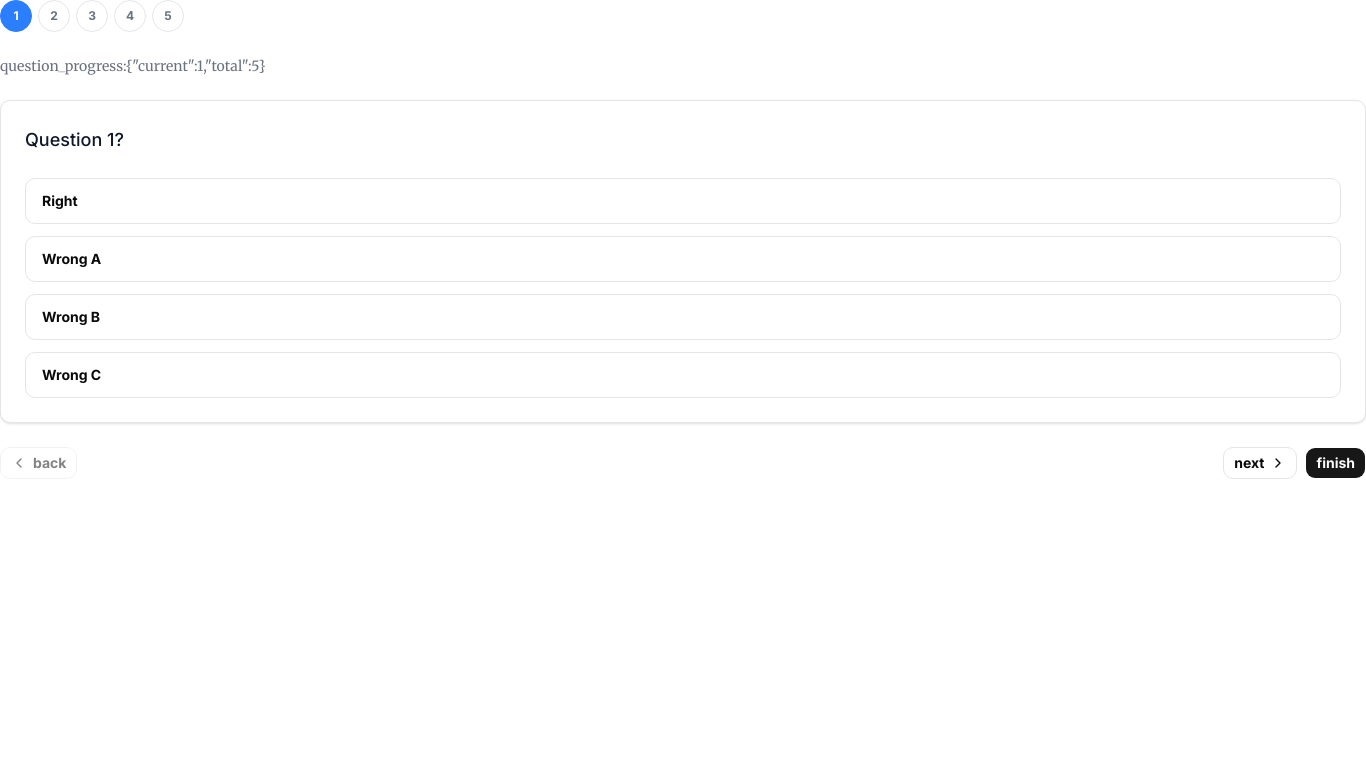
Test: QuizPlayer — finish confirmation dismissal (#666) › raises the confirmation when questions are unanswered
Click the button "next" at (1260, 463), box top-left (1223, 447), bottom-right (1297, 479)
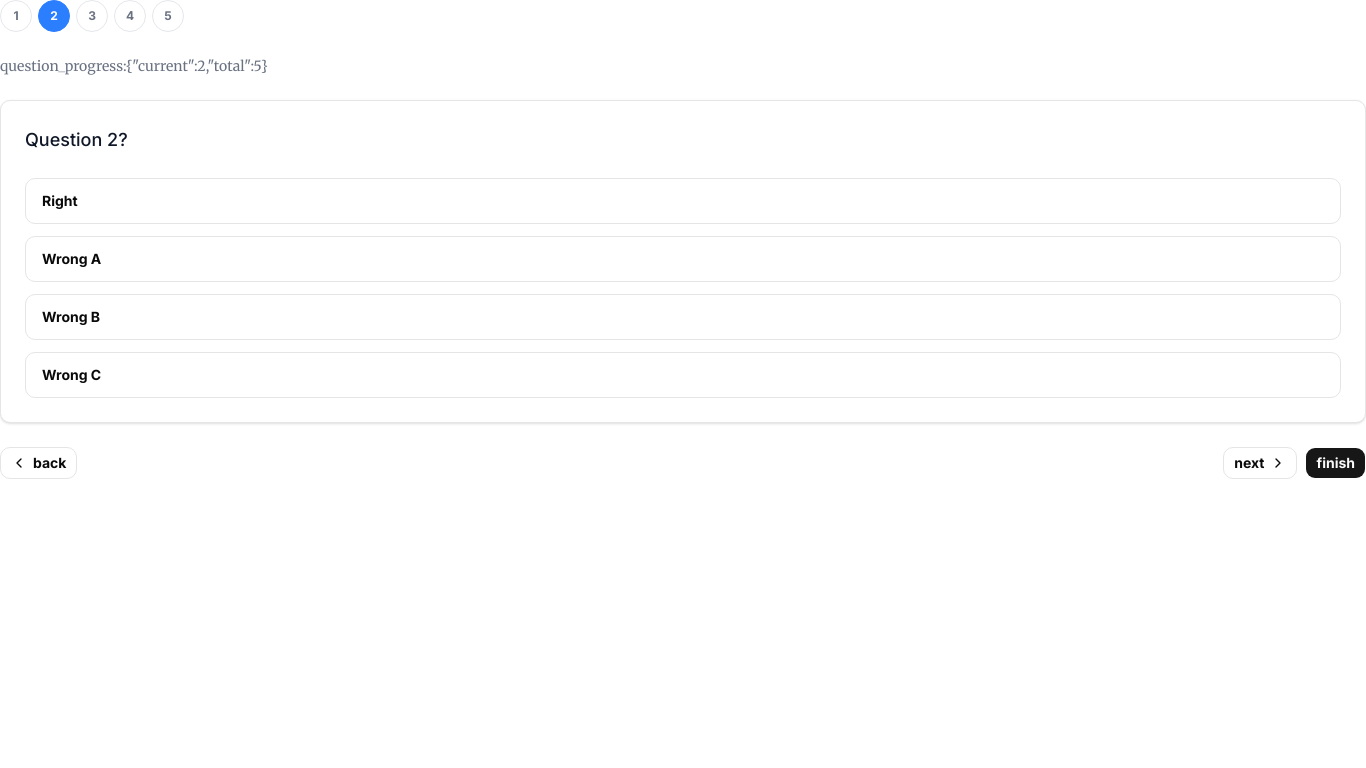
Click the button "next" at (1260, 463), box top-left (1223, 447), bottom-right (1297, 479)
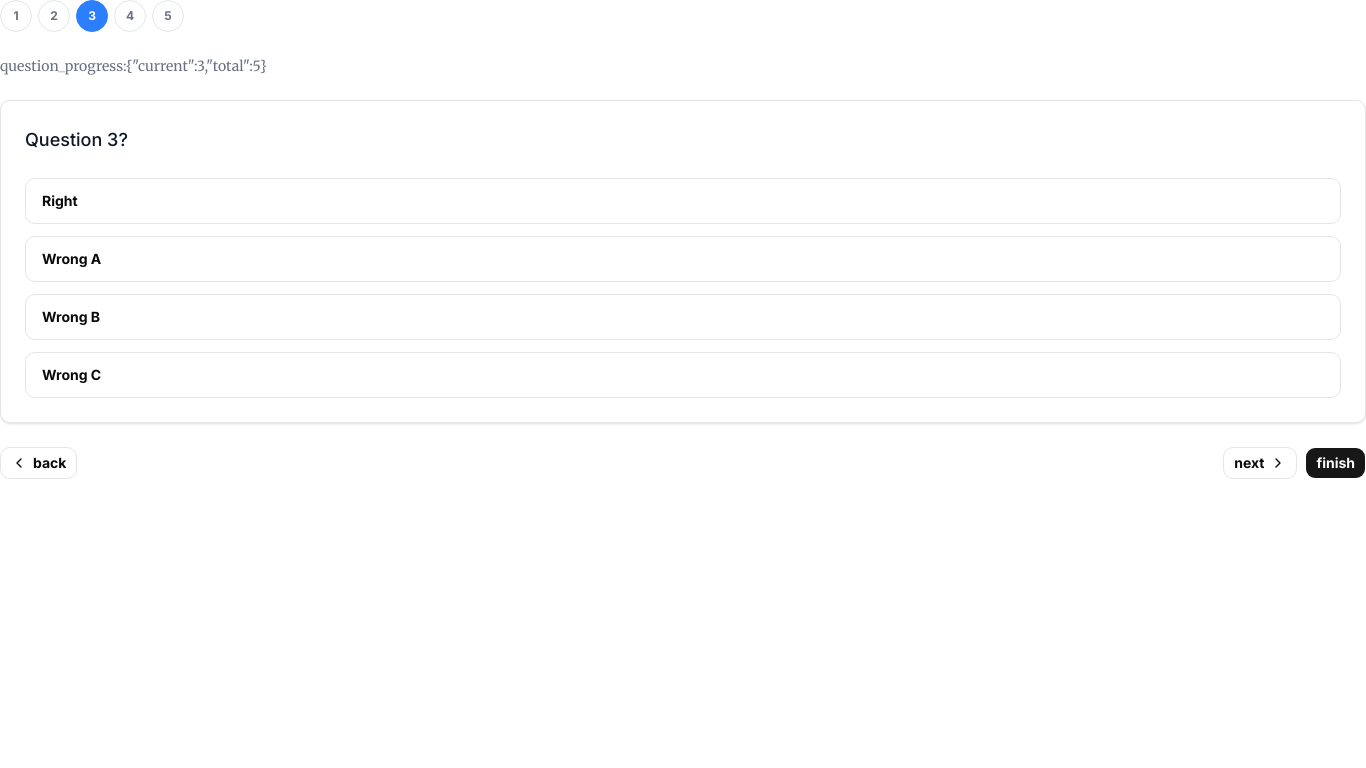
Click the button "next" at (1260, 463), box top-left (1223, 447), bottom-right (1297, 479)
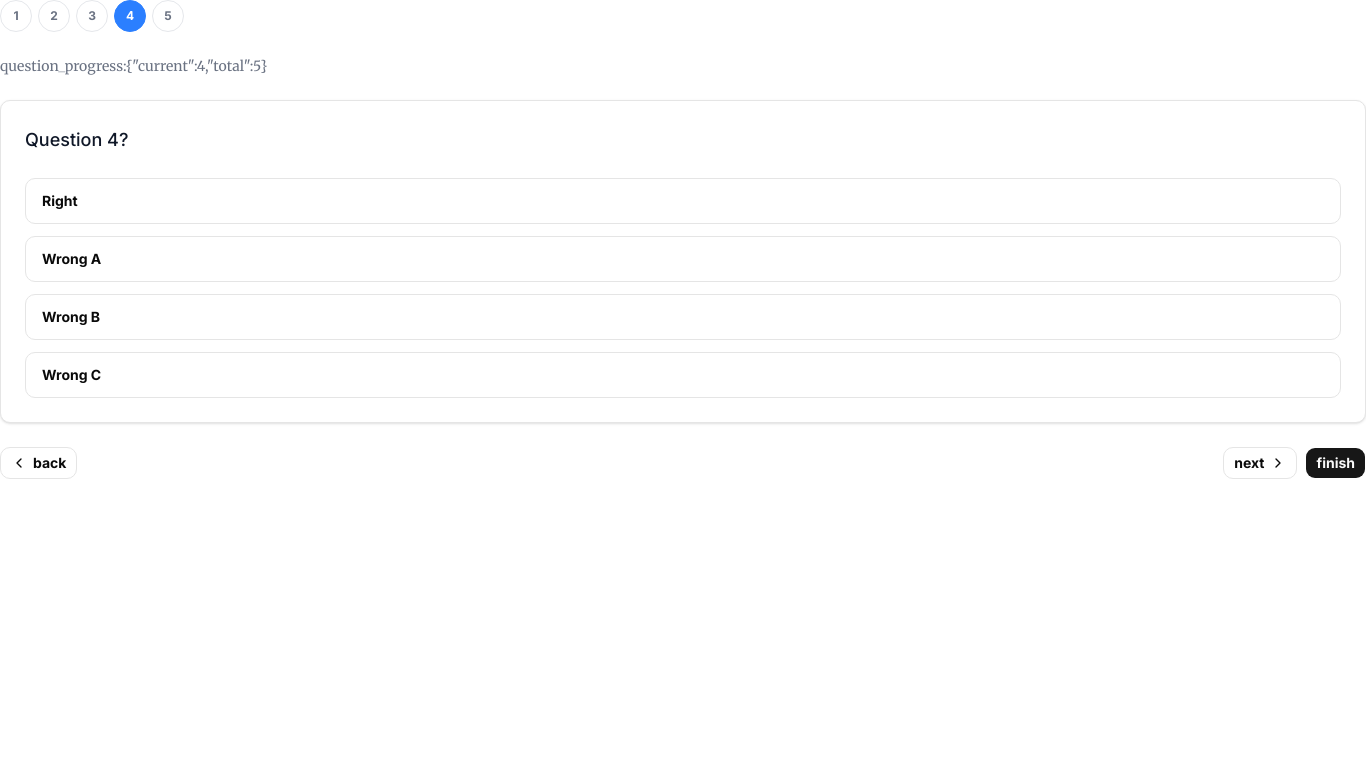
Click the button "next" at (1260, 463), box top-left (1223, 447), bottom-right (1297, 479)
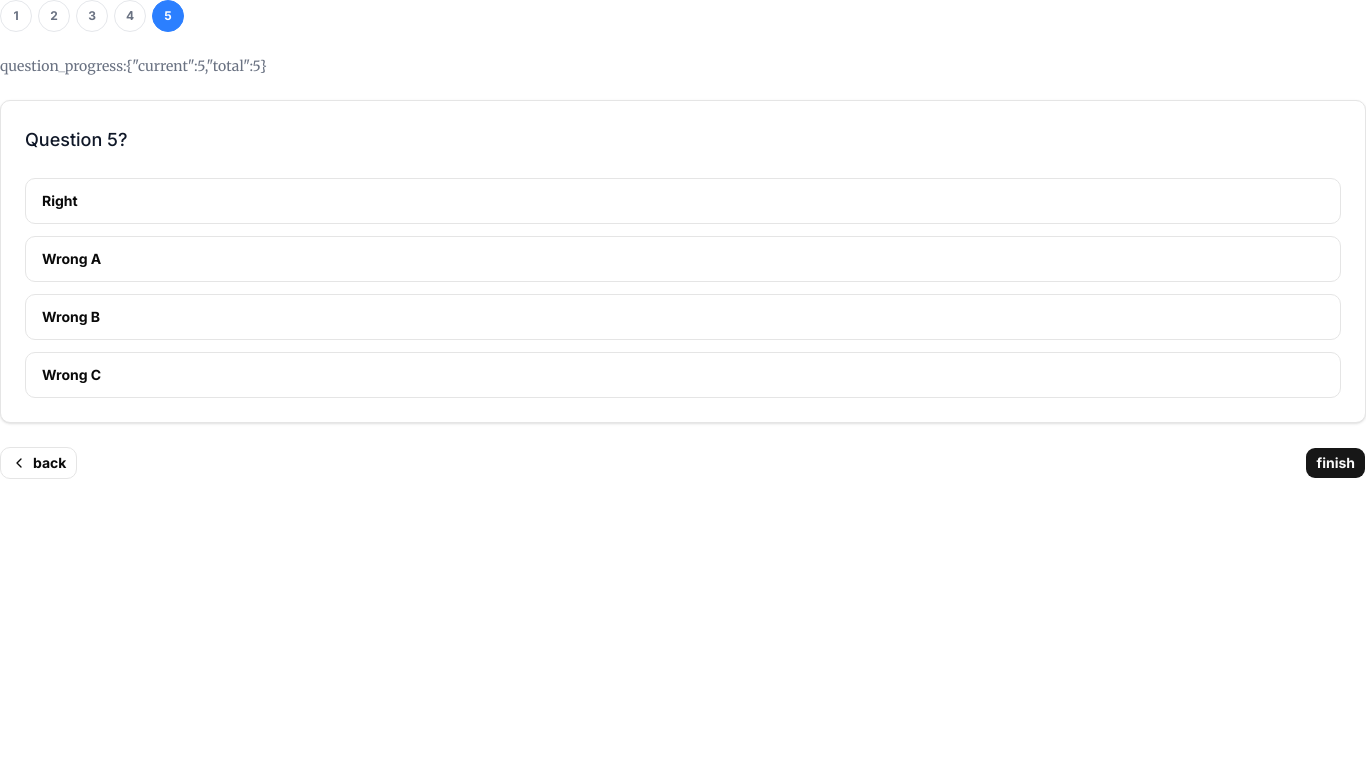
Click the button "finish" at (1336, 463), box top-left (1305, 447), bottom-right (1365, 479)
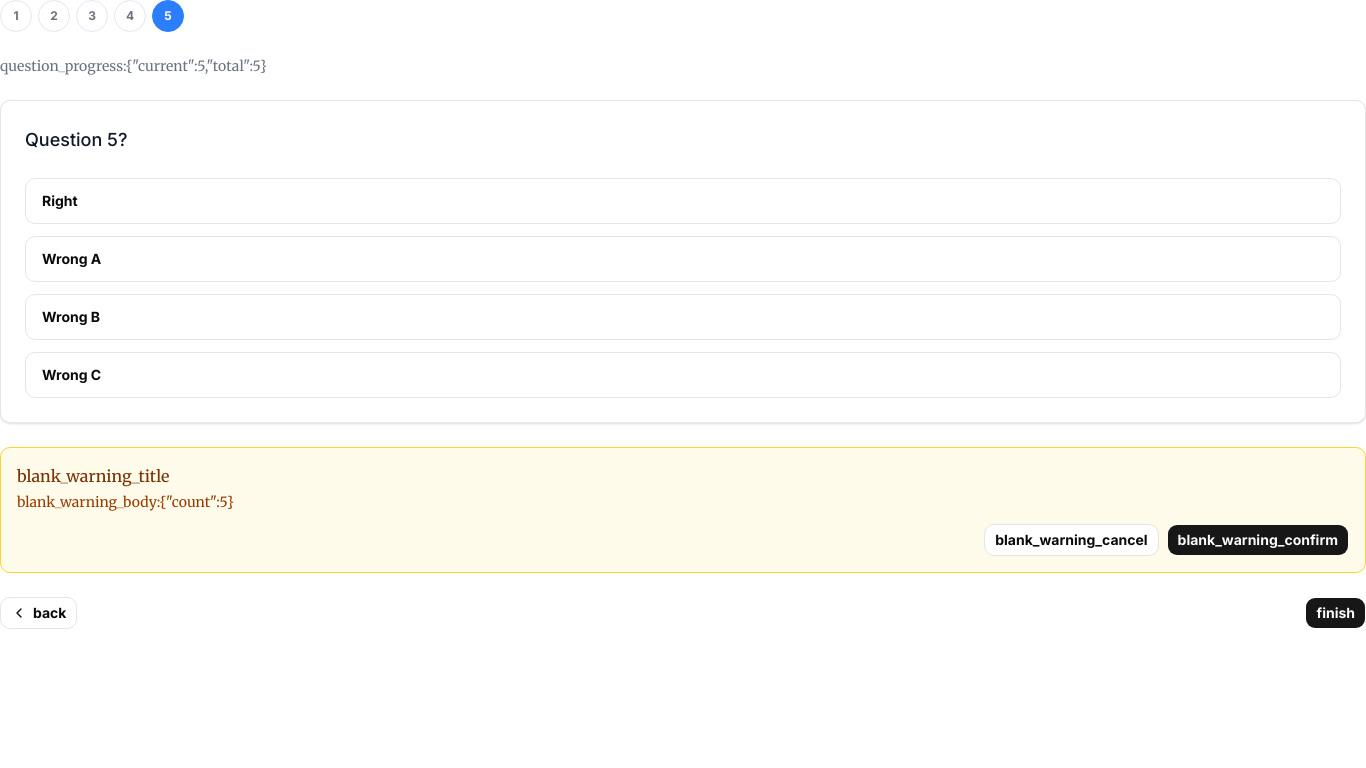
Expected: the dialog is shown, top-left (0, 447), bottom-right (1365, 573)
